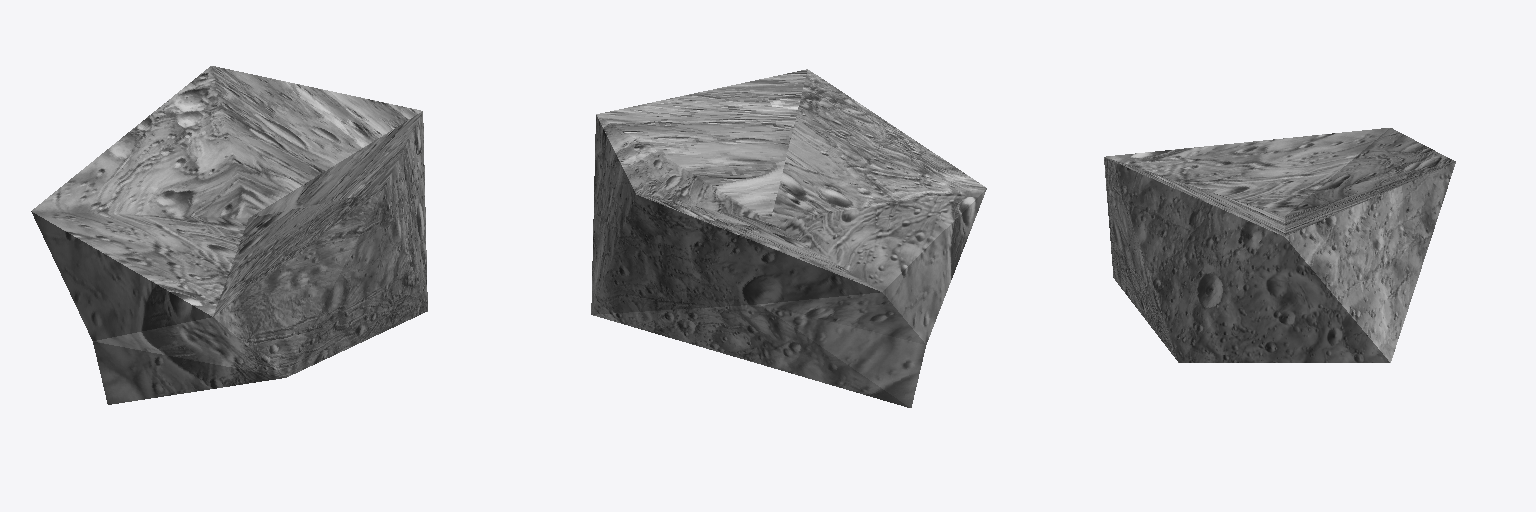
The picture shows the model from 3 angles: view 1: azimuth 30°, elevation 25°; view 2: azimuth 150°, elevation 25°; view 3: azimuth 270°, elevation 25°; orthographic projection.
Visible parts, largest first — view 1: GeoSphere001; view 2: GeoSphere001; view 3: GeoSphere001.
Boxes of the visible parts, x1=… form: GeoSphere001: x1=31, y1=66, x2=427, y2=404; GeoSphere001: x1=591, y1=69, x2=986, y2=407; GeoSphere001: x1=1104, y1=128, x2=1455, y2=362.
Size of the model in its own units: 9.72 by 6.32 by 8.75.
1 materials, 1 textured.